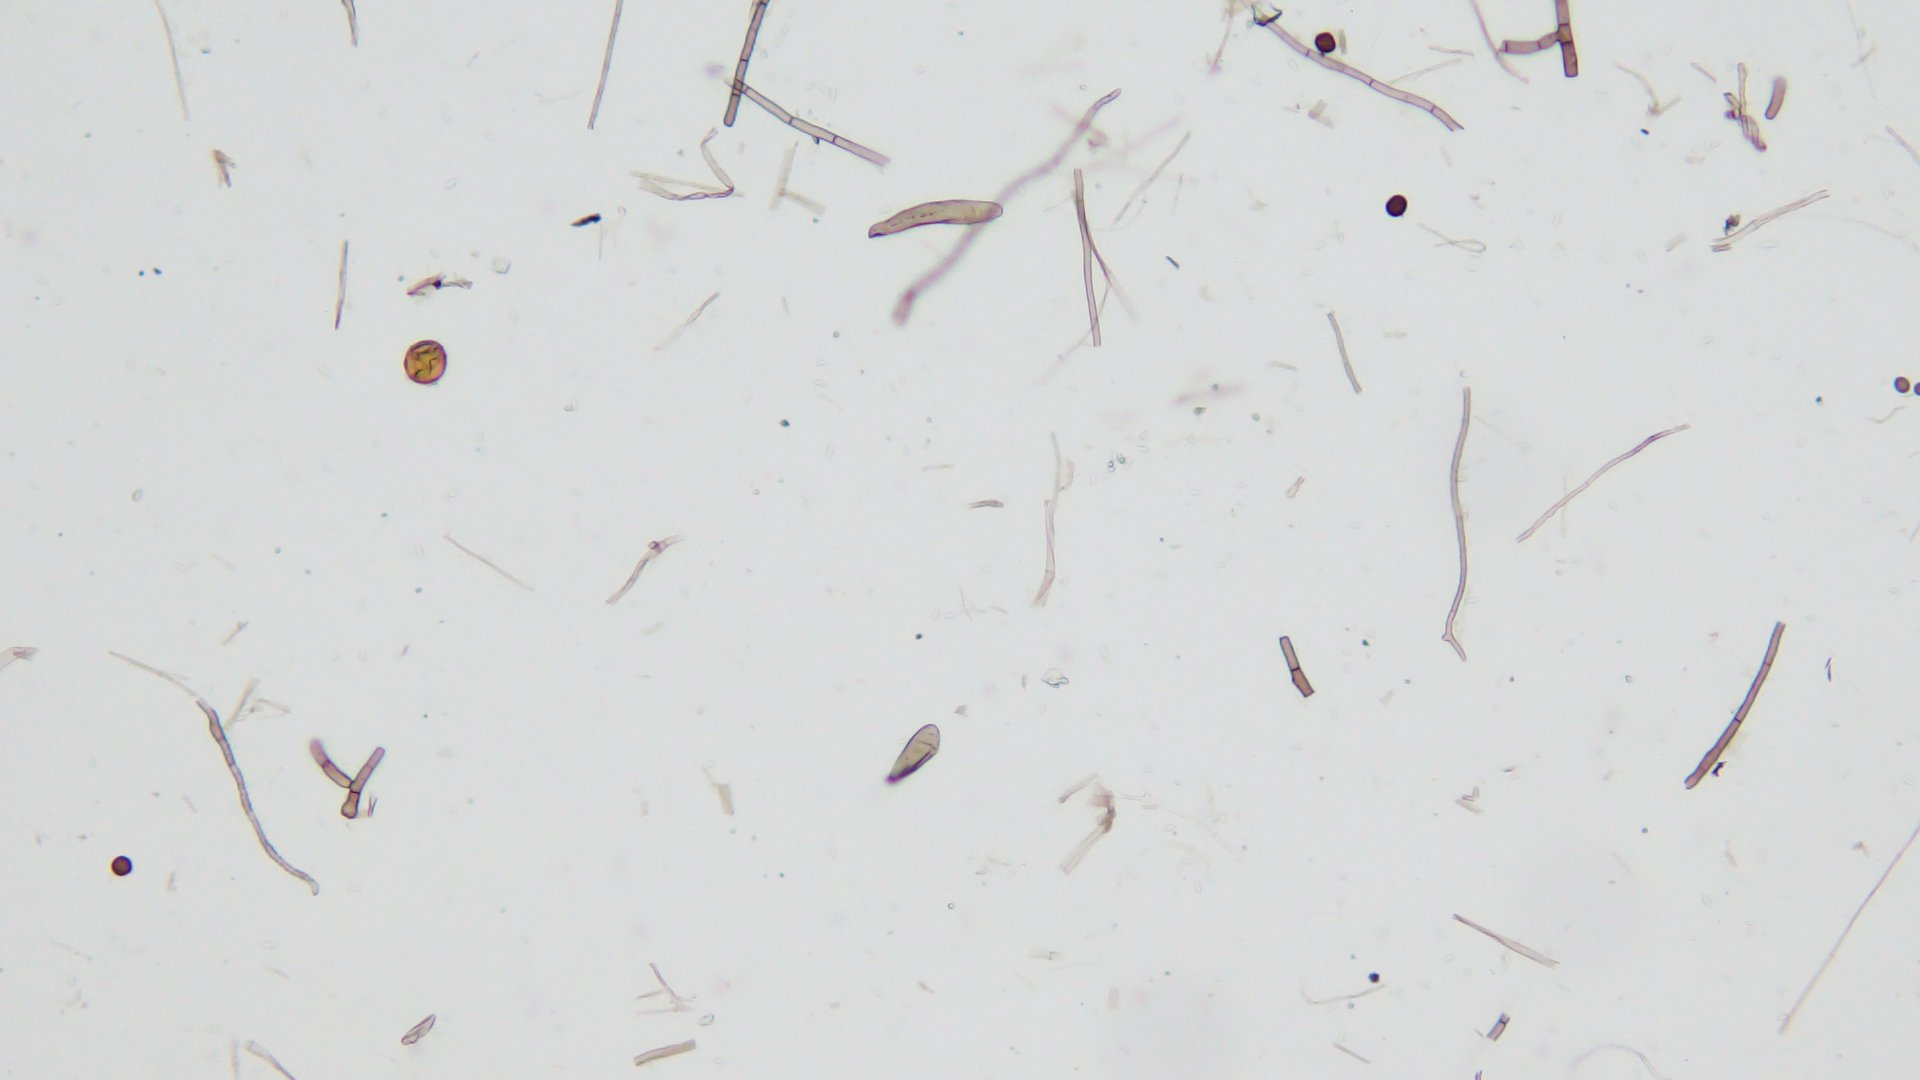dbb_spore: (866, 200, 1004, 235), (890, 723, 942, 783)
shs_spore: (1385, 194, 1408, 219), (1312, 32, 1338, 54), (111, 858, 132, 876)
xb_spore: (404, 342, 448, 385)
